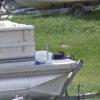Boat: (1, 16, 83, 98)
